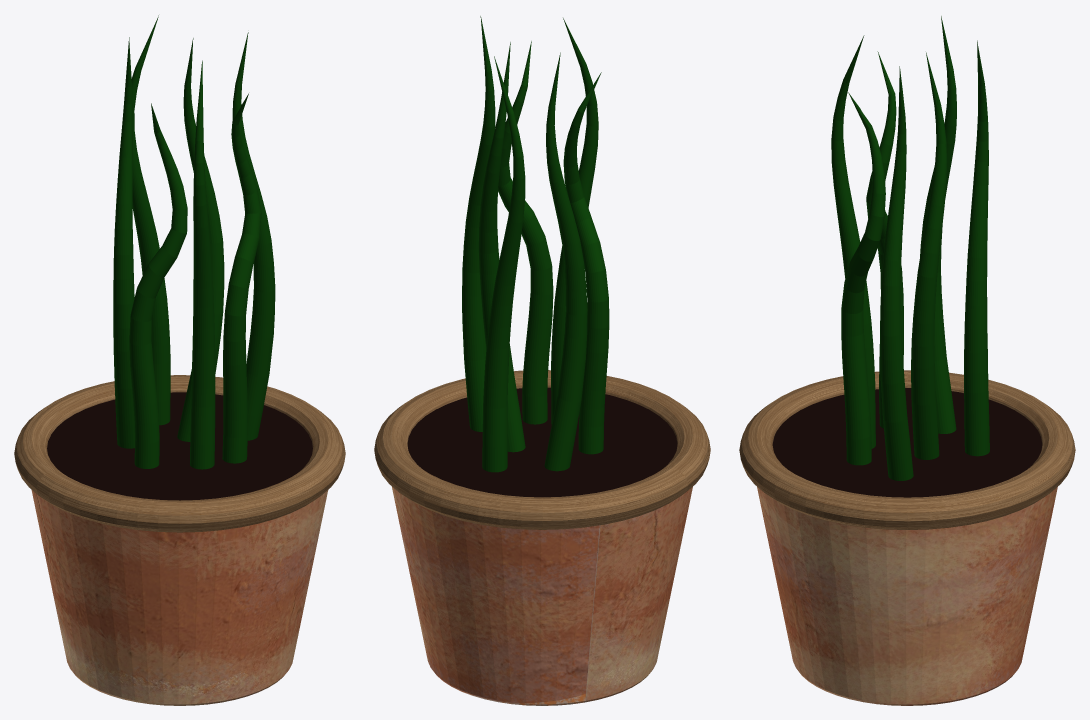
Rendered from matera_y_planta.obj.
The picture shows the model from 3 angles, left to right: view 1: azimuth 30°, elevation 25°; view 2: azimuth 150°, elevation 25°; view 3: azimuth 270°, elevation 25°; orthographic projection.
Visible parts, largest first — view 1: Cylinder.009; view 2: Cylinder.009; view 3: Cylinder.009.
Boxes of the visible parts, left/top/right/bottom form: Cylinder.009: left=14, top=15, right=345, bottom=705; Cylinder.009: left=374, top=16, right=710, bottom=705; Cylinder.009: left=739, top=16, right=1075, bottom=705.
Bounding box in the file's own units: 1.28 × 2.63 × 1.28.
5 materials, 2 textured.
